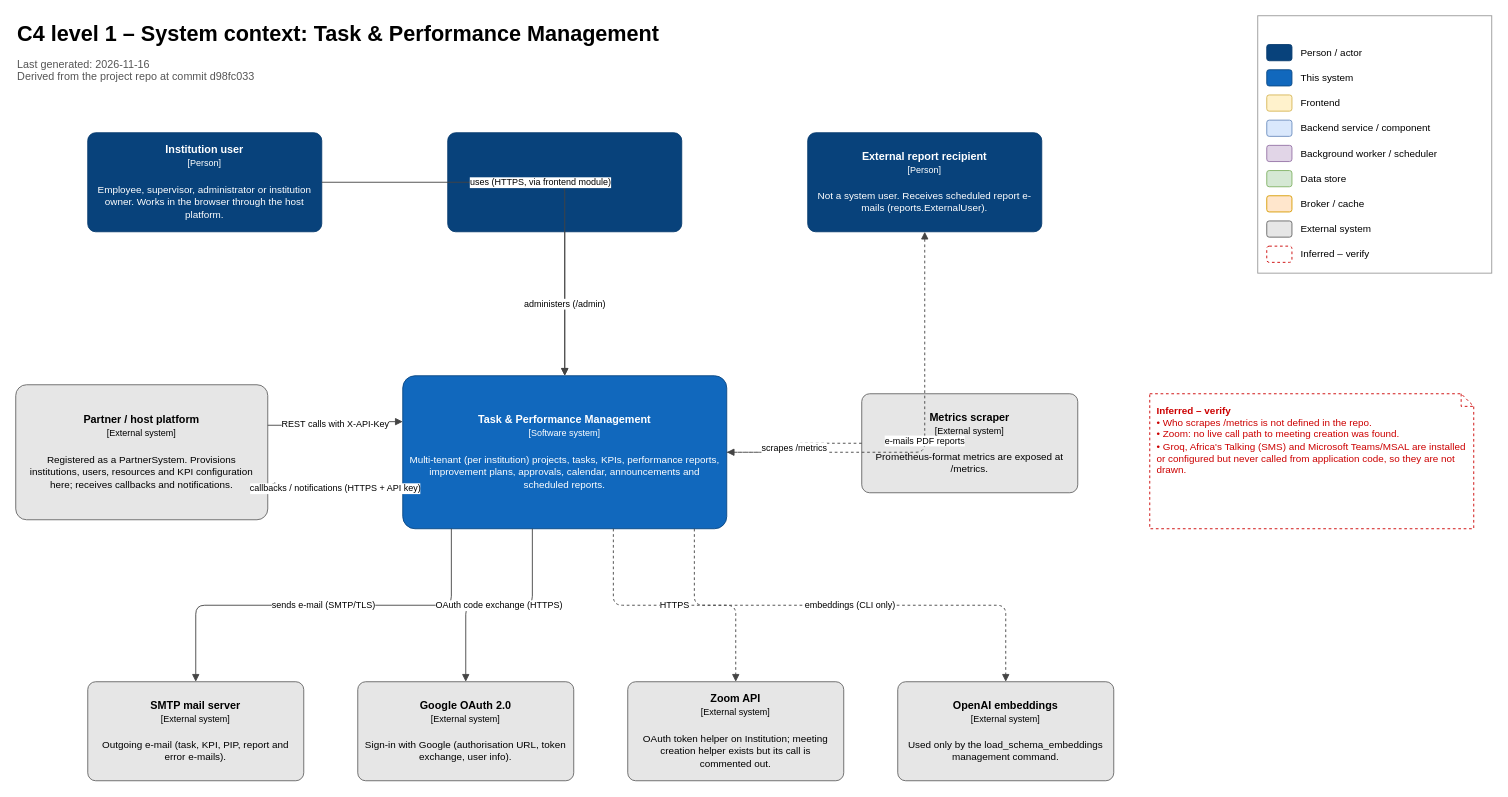
Image size: 1508x797. Some labels were removed from this diagram. Each missing label, with the box of its shape:
Legend: (1257, 15, 1492, 273)
Platform operator [Person] Staff/superuser who uses the Django admin site.: (447, 132, 682, 232)
